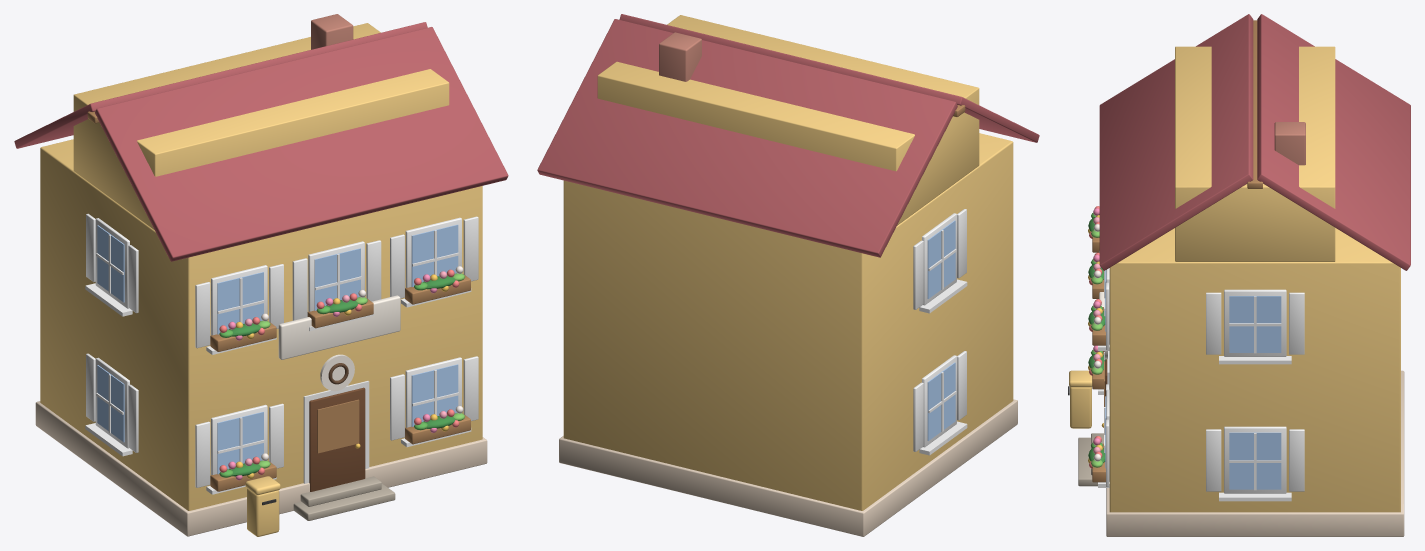
Rendered from shop_post.glb.
3 renders of one model, left to right at view 1: azimuth 30°, elevation 25°; view 2: azimuth 150°, elevation 25°; view 3: azimuth 270°, elevation 25°, orthographic. The views are drawn at different scales.
Parts seen in each view (by area): view 1: shop_post; view 2: shop_post; view 3: shop_post.
Boxes of the visible parts, bbox=[...] form: shop_post: bbox=[14, 14, 508, 536]; shop_post: bbox=[537, 14, 1039, 536]; shop_post: bbox=[1068, 14, 1410, 536].
Size of the model in its own units: 7.4 by 8.05 by 6.58.
